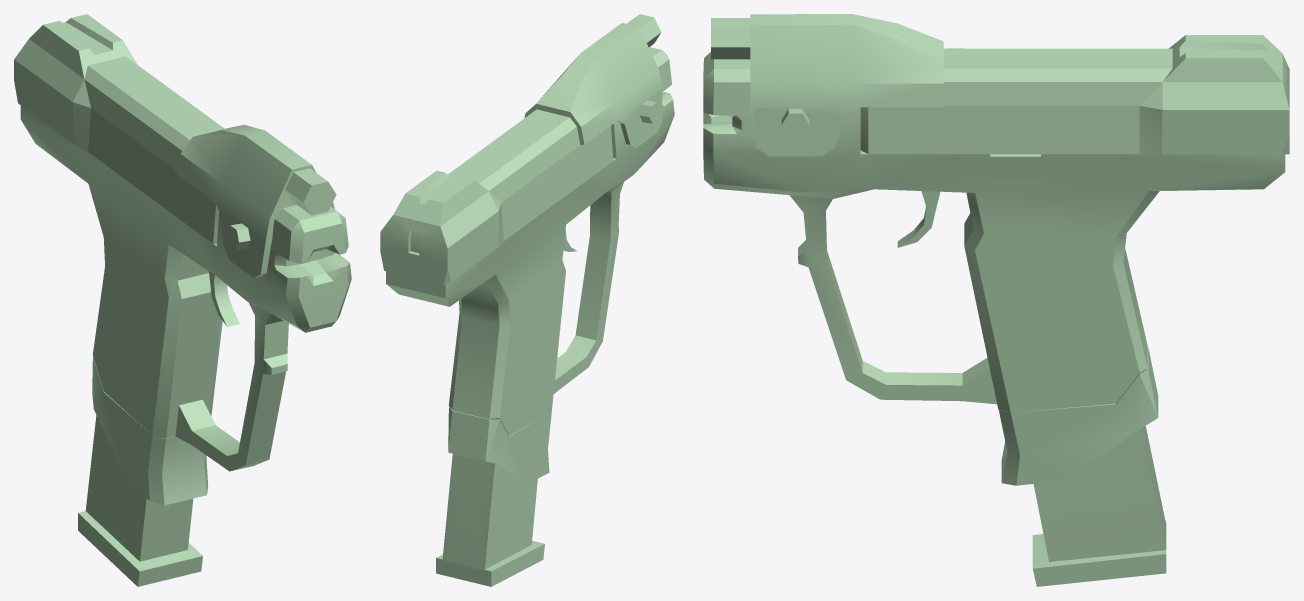
File: M6D_Icon.fbx
3 views of the same model, side by side, from view 1: azimuth 30°, elevation 25°; view 2: azimuth 150°, elevation 25°; view 3: azimuth 270°, elevation 25° (orthographic). The views are drawn at different scales.
Visible parts, largest first — view 1: w_desert_eagle_ce_magnum_w; view 2: w_desert_eagle_ce_magnum_w; view 3: w_desert_eagle_ce_magnum_w.
Part boxes in pixels (<box>): w_desert_eagle_ce_magnum_w: <box>14,14,351,586</box>; w_desert_eagle_ce_magnum_w: <box>380,14,674,586</box>; w_desert_eagle_ce_magnum_w: <box>703,14,1289,586</box>.
Bounding box in the file's own units: 191 × 949 × 916.
